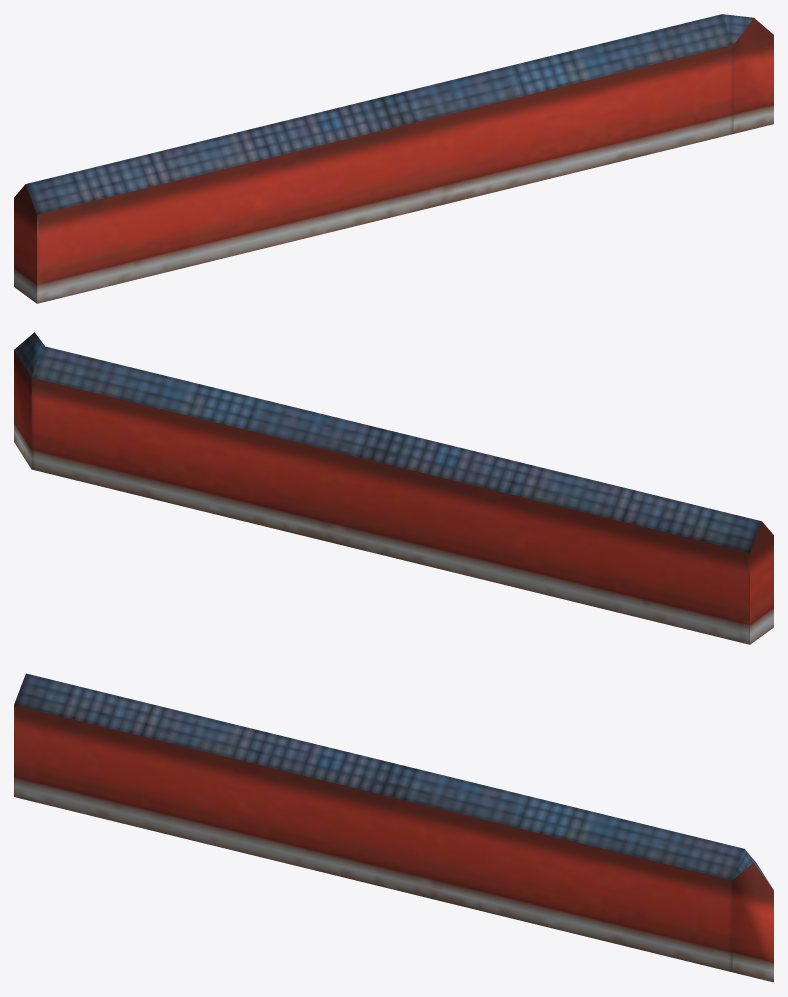
File: Civilian - Civilian Building - Temple Of Heaven Wall Corners - CBNTmHvWL.glb
3 renders of one model, top to bottom at view 1: azimuth 30°, elevation 25°; view 2: azimuth 150°, elevation 25°; view 3: azimuth 330°, elevation 25°, orthographic. The views are drawn at different scales.
Parts seen in each view (by area): view 1: CBNTMHVWL; view 2: CBNTMHVWL; view 3: CBNTMHVWL.
Boxes of the visible parts, x1=… form: CBNTMHVWL: x1=14, y1=14, x2=773, y2=303; CBNTMHVWL: x1=14, y1=332, x2=773, y2=644; CBNTMHVWL: x1=14, y1=673, x2=773, y2=982.
Bounding box in the file's own units: 102 × 14.67 × 5.54.
1 material, 1 textured.
